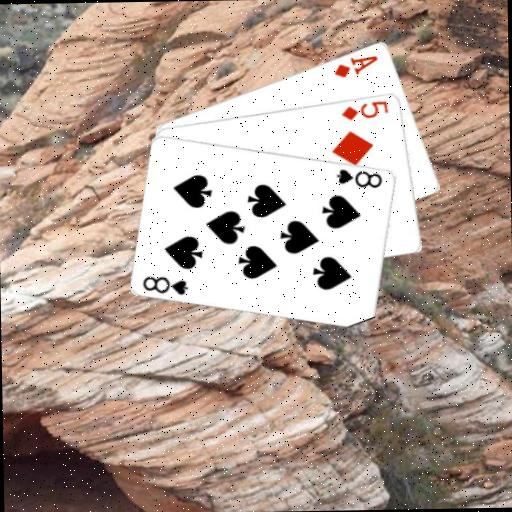5D: (339, 98, 390, 122)
8S: (140, 271, 191, 297), (333, 165, 384, 190)
AD: (331, 52, 380, 79)
